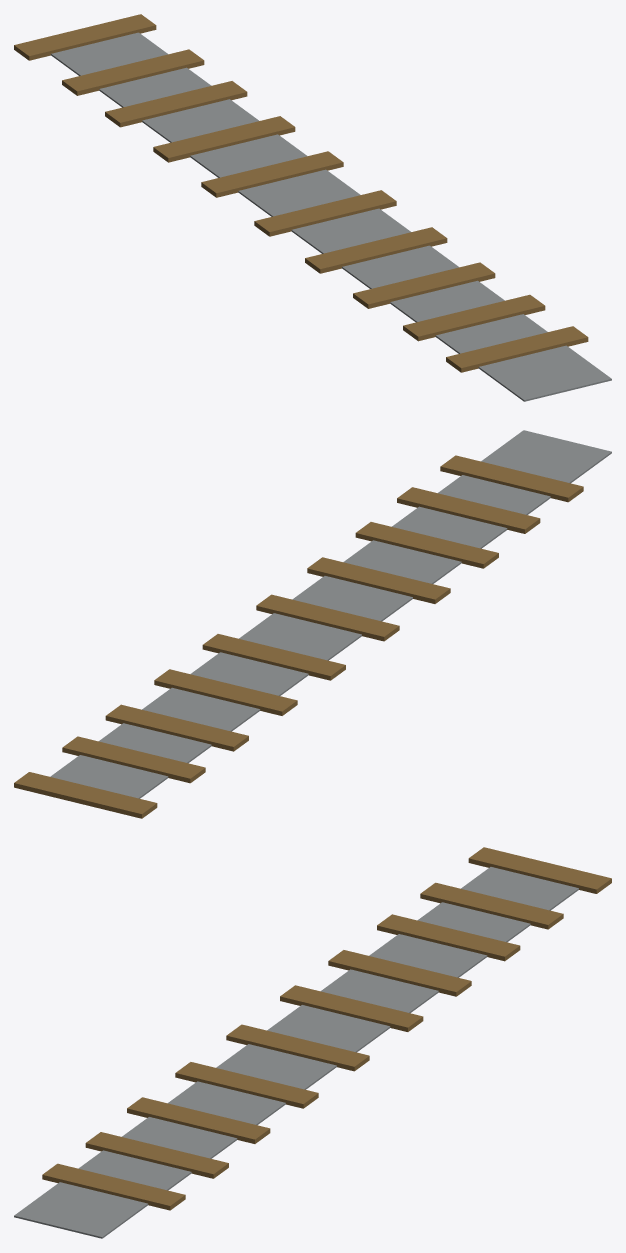
Rendered from tracks.glb.
3 views of the same model, one above another, from view 1: azimuth 30°, elevation 25°; view 2: azimuth 150°, elevation 25°; view 3: azimuth 330°, elevation 25° (orthographic).
Parts seen in each view (by area): view 1: Mesh_Mesh_head_geo.001_lambert2SG.001; view 2: Mesh_Mesh_head_geo.001_lambert2SG.001; view 3: Mesh_Mesh_head_geo.001_lambert2SG.001.
Part boxes in pixels (bbox=[...]): Mesh_Mesh_head_geo.001_lambert2SG.001: bbox=[14, 14, 611, 401]; Mesh_Mesh_head_geo.001_lambert2SG.001: bbox=[14, 430, 611, 818]; Mesh_Mesh_head_geo.001_lambert2SG.001: bbox=[14, 847, 611, 1238].
Size of the model in its own units: 30 by 1 by 193.
